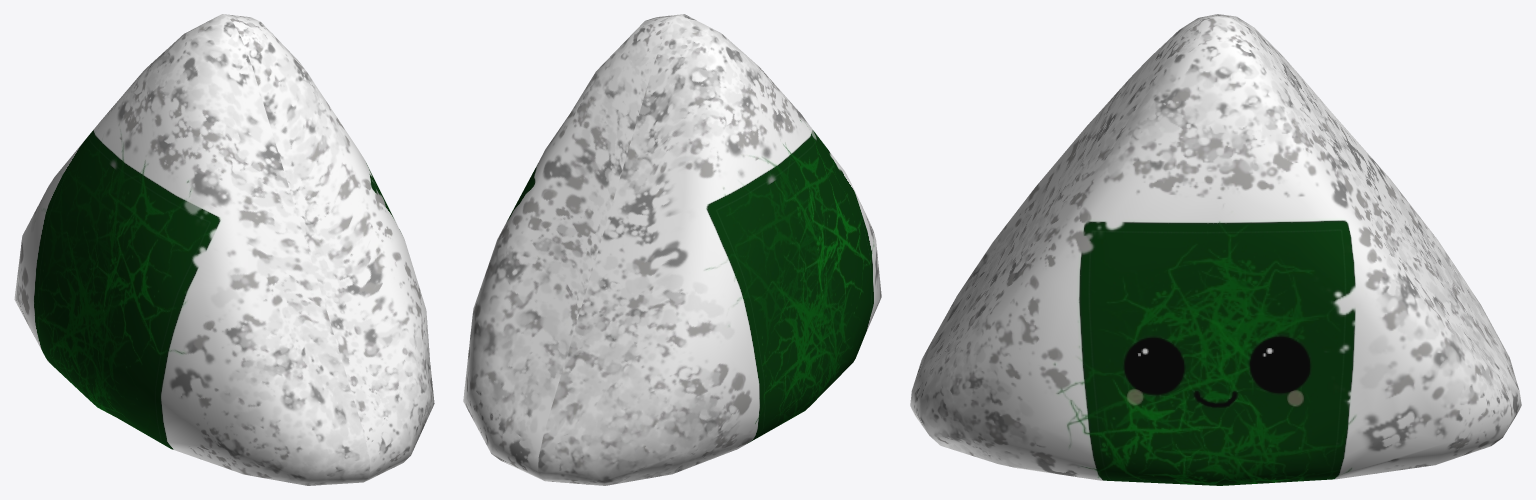
Rendered from onigiri fbx- pozitivni lik.fbx.
3 renders of one model, left to right at view 1: azimuth 30°, elevation 25°; view 2: azimuth 150°, elevation 25°; view 3: azimuth 270°, elevation 25°, orthographic. The views are drawn at different scales.
Parts seen in each view (by area): view 1: ONIGIRI; view 2: ONIGIRI; view 3: ONIGIRI.
Boxes of the visible parts, <box> form: ONIGIRI: <box>14,14,434,485</box>; ONIGIRI: <box>463,14,881,485</box>; ONIGIRI: <box>910,14,1521,485</box>.
Size of the model in its own units: 19.44 by 24.92 by 33.73.
1 material, 1 textured.
